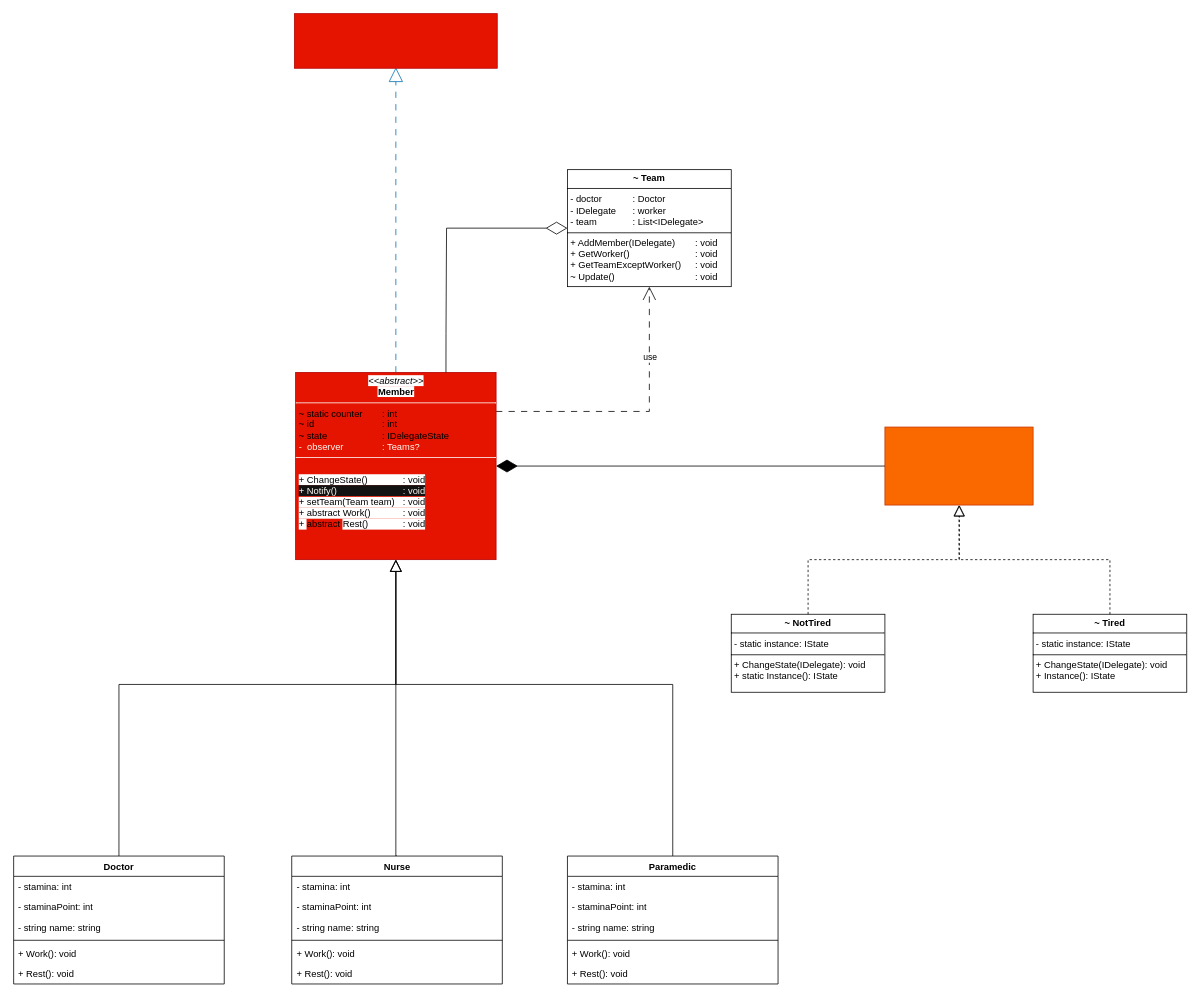
Image size: 1200x1000. Some labels were removed from this diagram. Each missing label, with the box of its shape:
<<Interface>> IDelegateState + ChangeState(IDelegate): void: (884, 426, 1033, 505)
<<interface>> ISubject + notify(): void: (294, 13, 497, 68)
